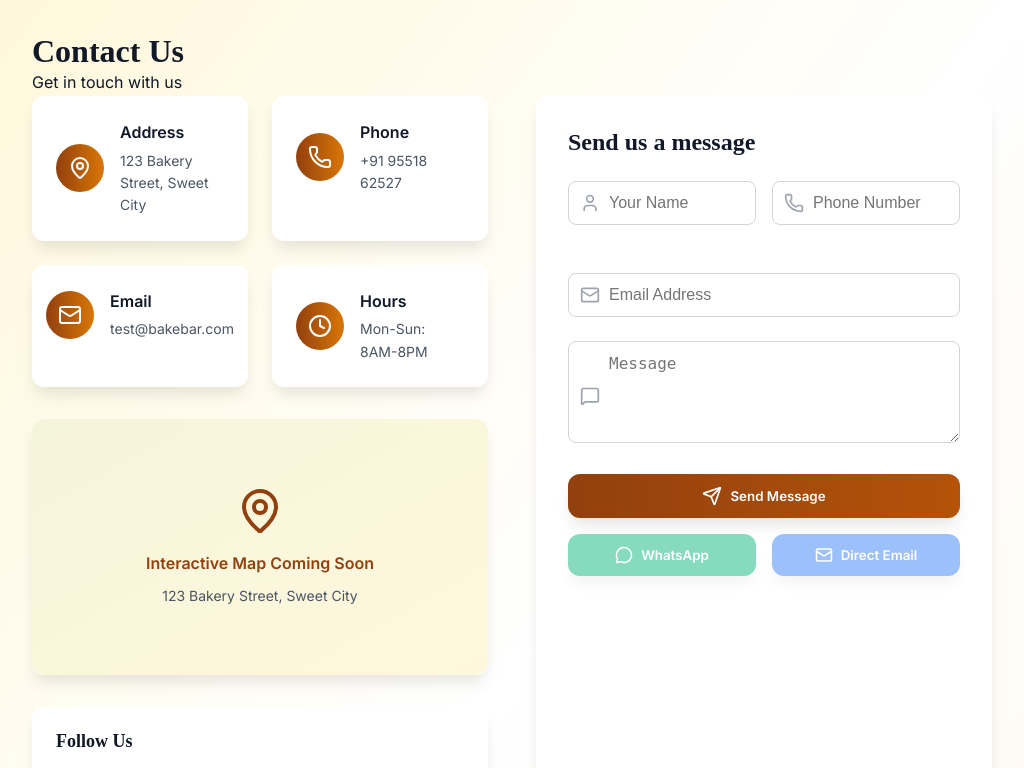
Test: Contact Component › disables WhatsApp button when required fields are empty
Expected: the button "WhatsApp" is disabled, [568,534,756,576]
Fill name but not message
Type "John Doe" into the field with placeholder "Your Name" at [662, 203], box [568,181,756,225]
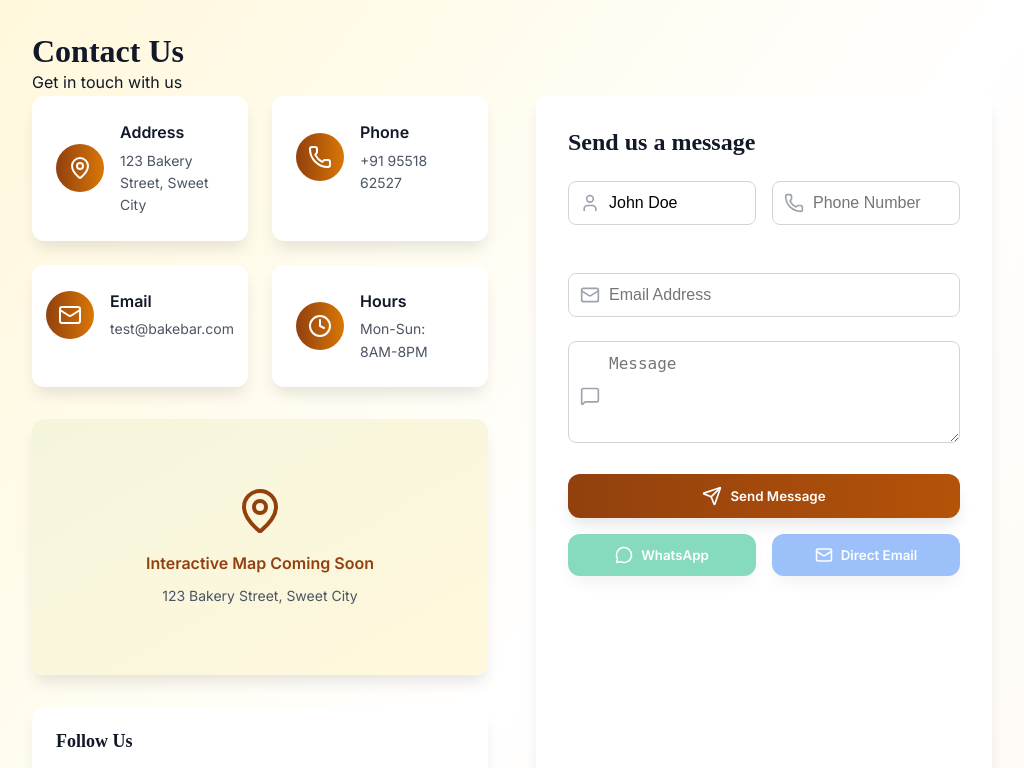
Expected: the button "WhatsApp" is disabled, [568,534,756,576]
Fill message as well
Type "Test message" into the text box with placeholder "Message" at [764, 392], box [568,341,960,443]
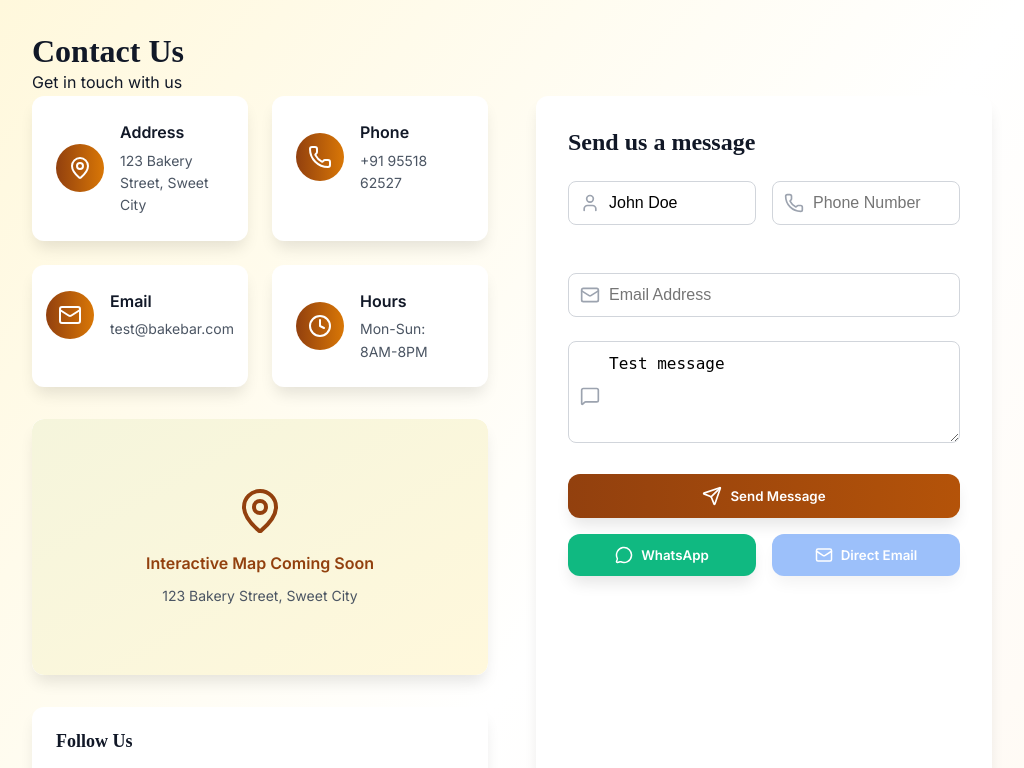
Expected: the button "WhatsApp" is enabled, [568,534,756,576]
